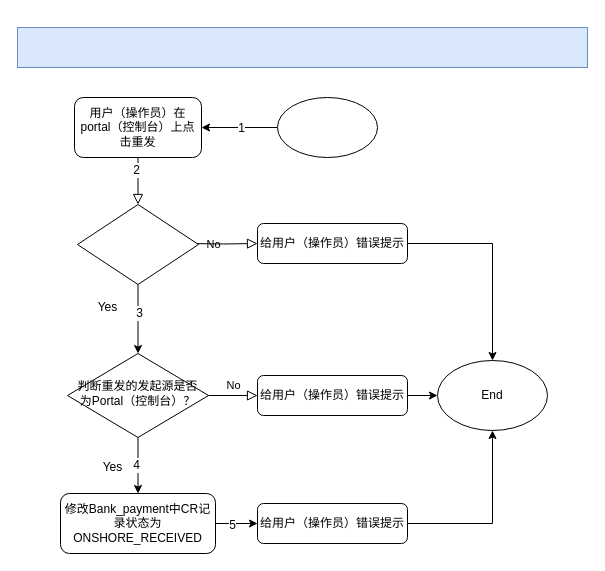
Image size: 605x571. Some labels were removed from this diagram. The shapes that lost their labels are listed below. From the top down, each one's box as (x1, y1, x2, y2) in pixels, then its label:
(16, 26, 588, 68): 重新发起提现流程
(276, 96, 378, 158): Start
(76, 204, 198, 284): 判断当前订单的是否为失败？
